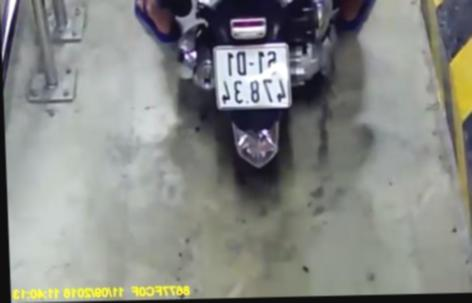License_Plate: (205, 41, 300, 115)
